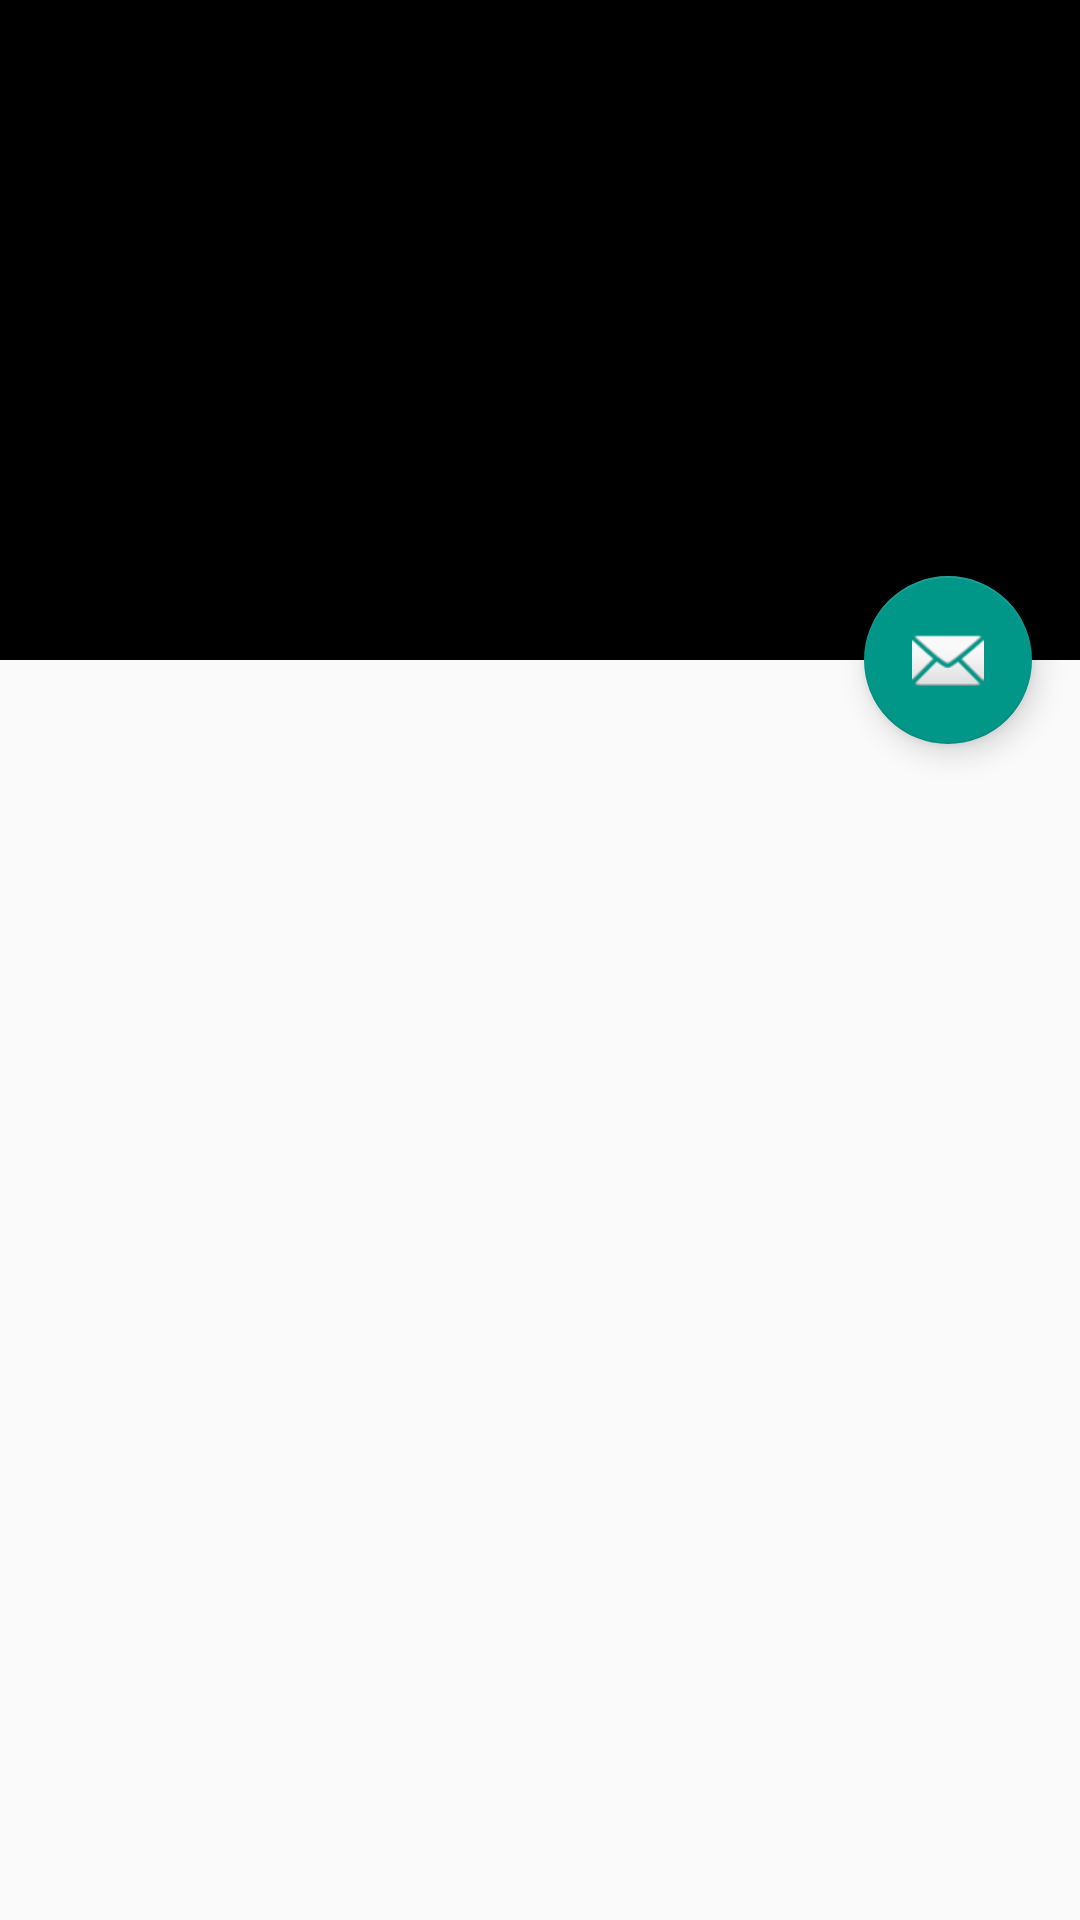

Named icons in this screenshot (1080px×1920px) and their centers, (x,y):
email: (948,660)
